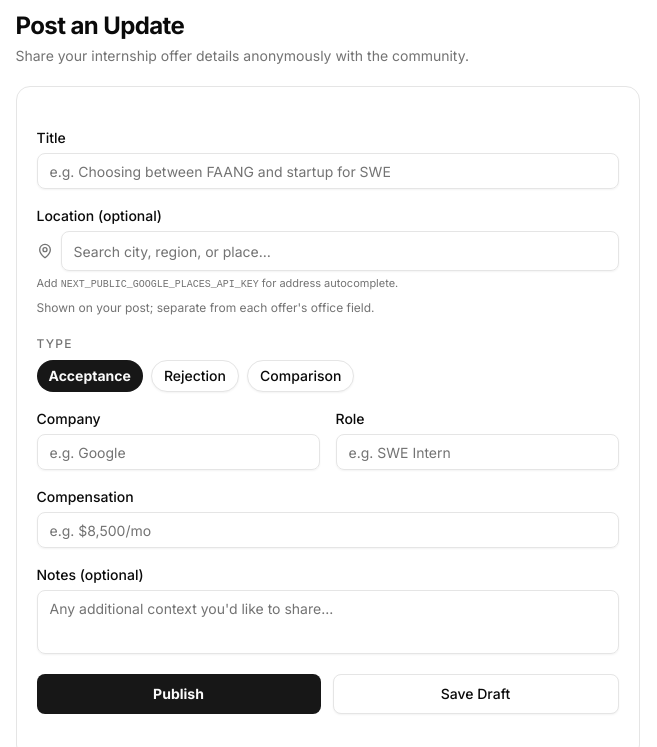
SubmitOfferForm › hides the post location picker for Comparison and shows the dashed note
Expected: the field with test id "office-location-input" is shown, [60, 231, 618, 271]
Click the button "Comparison": (301, 376) [247, 360, 354, 392]
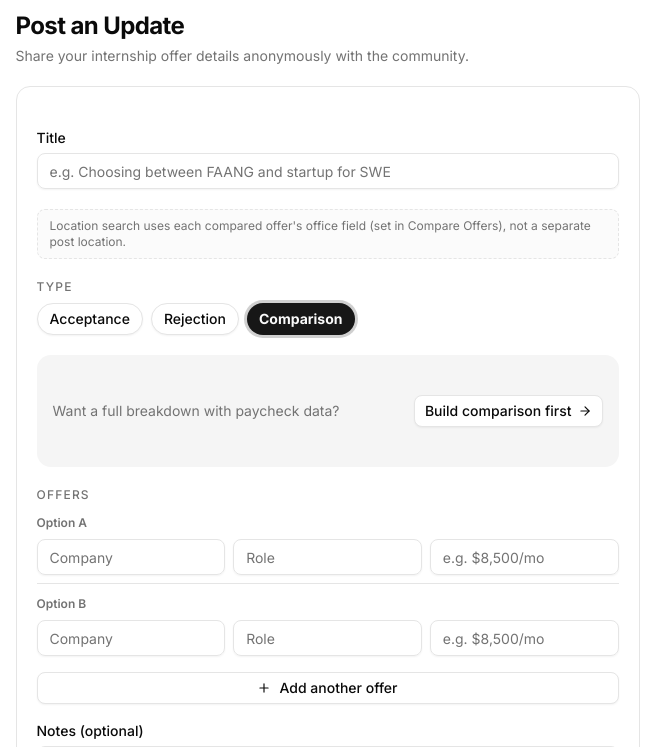
Expected: the field with test id "office-location-input" is gone
Expected: the text "Location search uses each compared offer" is shown, [50, 218, 591, 249]
